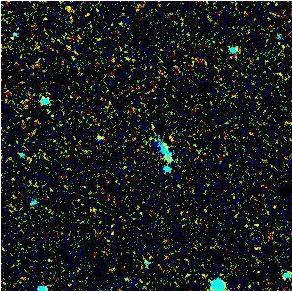star: (55, 0, 85, 22)
